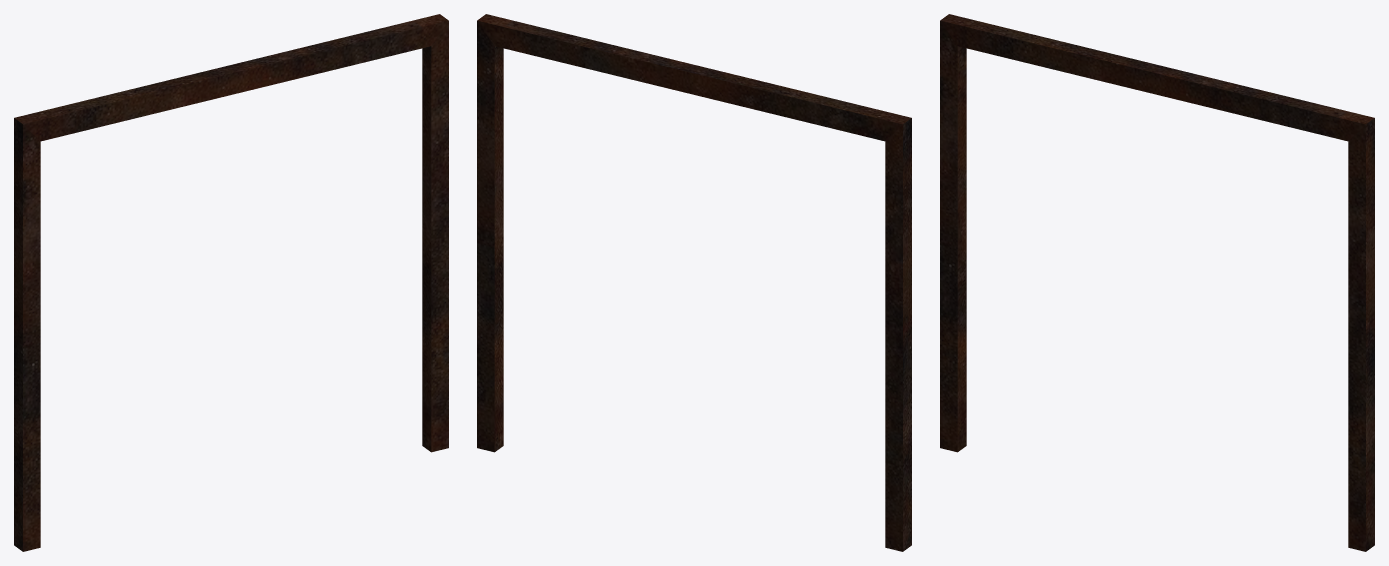
The model's file is metal_wall_frame_textured.glb.
The picture shows the model from 3 angles, left to right: view 1: azimuth 30°, elevation 25°; view 2: azimuth 150°, elevation 25°; view 3: azimuth 330°, elevation 25°; orthographic projection.
Parts seen in each view (by area): view 1: Cube; view 2: Cube; view 3: Cube.
Part boxes in pixels (x1,y1,x2,y2): Cube: (14,14,448,551); Cube: (477,14,911,551); Cube: (940,14,1374,551).
Bounding box in the file's own units: 2.09 × 2 × 0.0761.
Materials: 1 (1 with a texture image).
